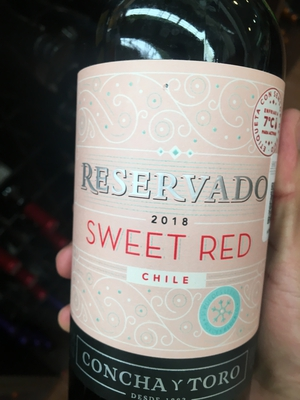reservado sweet red: (68, 8, 288, 400)
